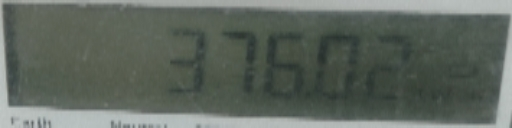0: (316, 28, 360, 102)
2: (363, 31, 410, 105)
3: (164, 10, 207, 103)
6: (264, 26, 305, 102)
7: (218, 24, 255, 103)
d: (303, 88, 316, 105)
